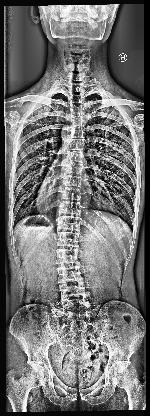Vertebrae: (46, 249, 90, 263), (49, 266, 91, 280), (53, 283, 95, 297), (49, 232, 87, 246), (54, 216, 88, 230), (56, 202, 88, 216), (63, 92, 95, 104), (65, 116, 95, 127), (61, 188, 86, 200), (64, 162, 88, 174), (64, 130, 96, 139), (64, 106, 96, 115), (65, 151, 93, 161), (66, 140, 92, 150), (63, 82, 95, 90), (64, 176, 86, 186)
